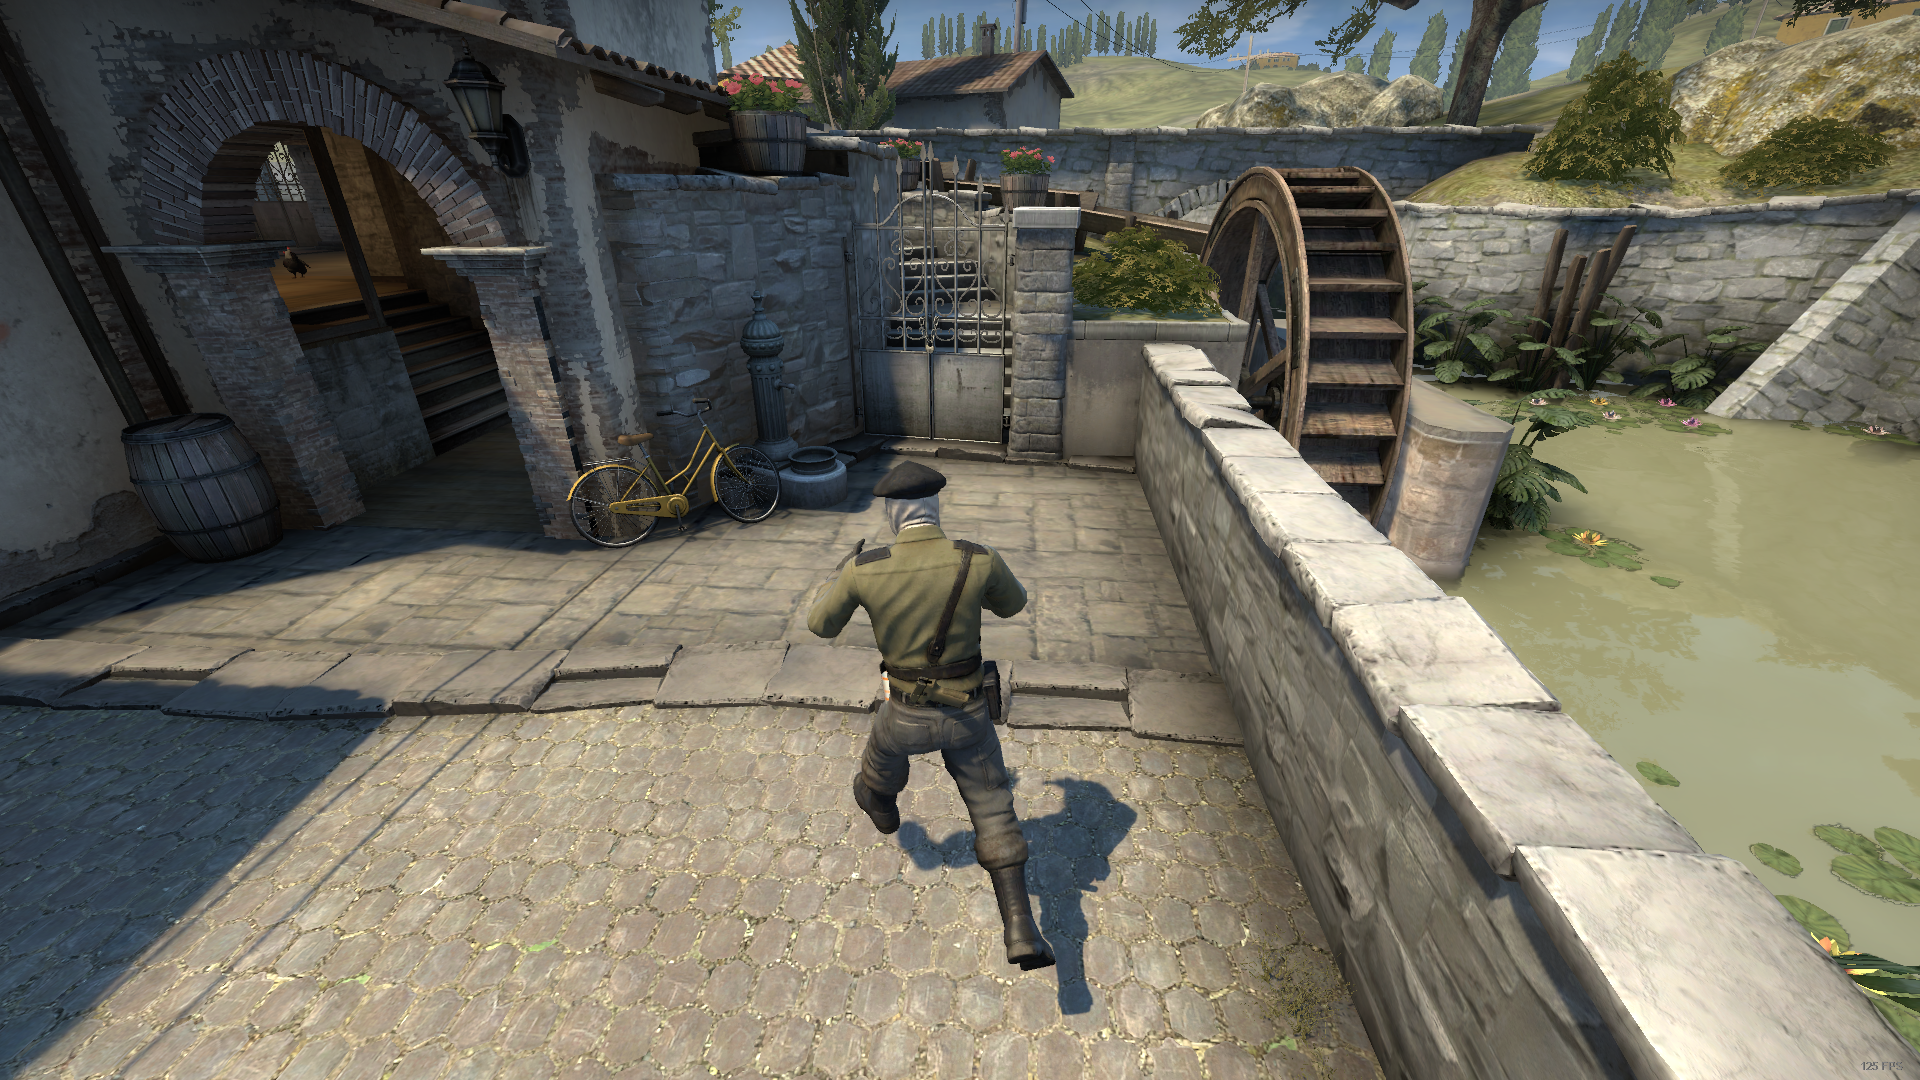t: (807, 460, 1062, 971)
